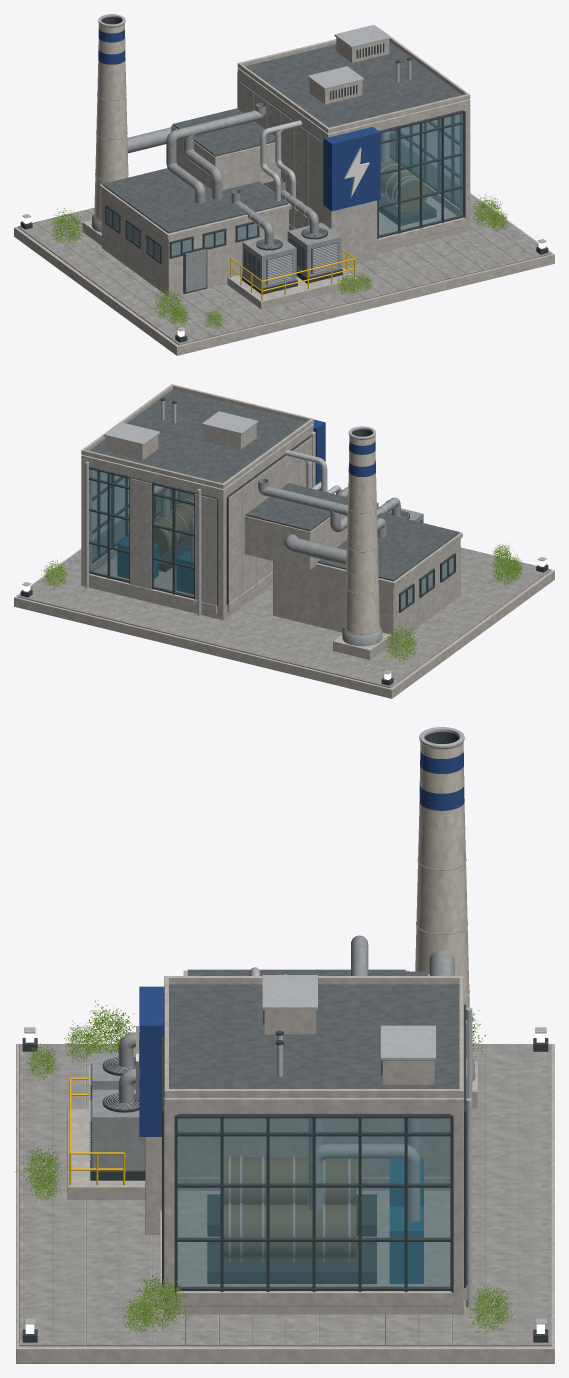
The model's file is valorizacion_energetica.fbx.
The picture shows the model from 3 angles, top to bottom: view 1: azimuth 30°, elevation 25°; view 2: azimuth 150°, elevation 25°; view 3: azimuth 270°, elevation 25°; orthographic projection. The views are drawn at different scales.
Visible parts, largest first — view 1: Solar · Loseta mineral, Sala de turbinas · Prefabricado caliza, Bloque de servicios · Prefabricado caliza, Sala de turbinas · Membrana bituminosa, Bloque de servicios · Membrana bituminosa, Sala de turbinas · Cristal de control, Solar · Prefabricado caliza, Chimenea · Fuste mineral, Torre del rayo · Azul cobalto, Plataforma de intercambiadores · Chapa galvanizada, Sala de turbinas · Perfilería antracita, Conductos de gases y cubierta · Chapa galvanizada (+19 smaller); view 2: Solar · Loseta mineral, Sala de turbinas · Prefabricado caliza, Bloque de servicios · Prefabricado caliza, Sala de turbinas · Membrana bituminosa, Sala de turbinas · Cristal de control, Solar · Prefabricado caliza, Chimenea · Fuste mineral, Bloque de servicios · Membrana bituminosa, Sala de turbinas · Perfilería antracita, Conductos de gases y cubierta · Inox cepillado, Conductos de gases y cubierta · Chapa galvanizada, Conductos de gases y cubierta · Prefabricado caliza (+13 smaller); view 3: Solar · Loseta mineral, Sala de turbinas · Cristal de control, Sala de turbinas · Prefabricado caliza, Sala de turbinas · Membrana bituminosa, Solar · Prefabricado caliza, Sala de turbinas · Perfilería antracita, Generadores tras el vidrio · Bombas industriales, Chimenea · Fuste mineral, Conductos de gases y cubierta · Inox cepillado, Generadores tras el vidrio · Perfilería antracita, Plataforma de intercambiadores · Chapa galvanizada, Generadores tras el vidrio · Inox cepillado (+17 smaller).
Boxes of the visible parts, x1=… form: Solar · Loseta mineral: x1=18, y1=145, x2=551, y2=344; Sala de turbinas · Prefabricado caliza: x1=237, y1=28, x2=470, y2=252; Bloque de servicios · Prefabricado caliza: x1=99, y1=125, x2=291, y2=296; Sala de turbinas · Membrana bituminosa: x1=245, y1=42, x2=462, y2=127; Bloque de servicios · Membrana bituminosa: x1=102, y1=108, x2=288, y2=233; Sala de turbinas · Cristal de control: x1=379, y1=113, x2=463, y2=235; Solar · Prefabricado caliza: x1=14, y1=144, x2=554, y2=355; Chimenea · Fuste mineral: x1=94, y1=23, x2=128, y2=221; Torre del rayo · Azul cobalto: x1=323, y1=126, x2=380, y2=211; Plataforma de intercambiadores · Chapa galvanizada: x1=231, y1=178, x2=341, y2=288; Sala de turbinas · Perfilería antracita: x1=239, y1=80, x2=465, y2=238; Conductos de gases y cubierta · Chapa galvanizada: x1=127, y1=103, x2=265, y2=203; Solar · Loseta mineral: x1=17, y1=492, x2=550, y2=687; Sala de turbinas · Prefabricado caliza: x1=81, y1=384, x2=313, y2=620; Bloque de servicios · Prefabricado caliza: x1=244, y1=504, x2=462, y2=643; Sala de turbinas · Membrana bituminosa: x1=89, y1=389, x2=306, y2=483; Sala de turbinas · Cristal de control: x1=89, y1=469, x2=194, y2=596; Solar · Prefabricado caliza: x1=14, y1=514, x2=554, y2=698; Chimenea · Fuste mineral: x1=345, y1=435, x2=379, y2=635; Bloque de servicios · Membrana bituminosa: x1=245, y1=483, x2=459, y2=581; Sala de turbinas · Perfilería antracita: x1=89, y1=436, x2=311, y2=605; Conductos de gases y cubierta · Inox cepillado: x1=85, y1=401, x2=341, y2=615; Conductos de gases y cubierta · Chapa galvanizada: x1=258, y1=478, x2=386, y2=565; Conductos de gases y cubierta · Prefabricado caliza: x1=105, y1=424, x2=256, y2=460; Solar · Loseta mineral: x1=19, y1=1044, x2=551, y2=1346; Sala de turbinas · Cristal de control: x1=177, y1=1118, x2=450, y2=1287; Sala de turbinas · Prefabricado caliza: x1=160, y1=976, x2=467, y2=1314; Sala de turbinas · Membrana bituminosa: x1=169, y1=984, x2=459, y2=1088; Solar · Prefabricado caliza: x1=16, y1=1044, x2=554, y2=1363; Sala de turbinas · Perfilería antracita: x1=162, y1=1004, x2=466, y2=1292; Generadores tras el vidrio · Bombas industriales: x1=224, y1=1157, x2=355, y2=1260; Chimenea · Fuste mineral: x1=415, y1=742, x2=469, y2=1007; Conductos de gases y cubierta · Inox cepillado: x1=250, y1=967, x2=472, y2=1307; Generadores tras el vidrio · Perfilería antracita: x1=207, y1=1194, x2=376, y2=1283; Plataforma de intercambiadores · Chapa galvanizada: x1=92, y1=1032, x2=145, y2=1170; Generadores tras el vidrio · Inox cepillado: x1=229, y1=1113, x2=419, y2=1261.
Size of the model in its own units: 15.4 by 8.81 by 11.54.
Materials: 18 (7 with a texture image).
